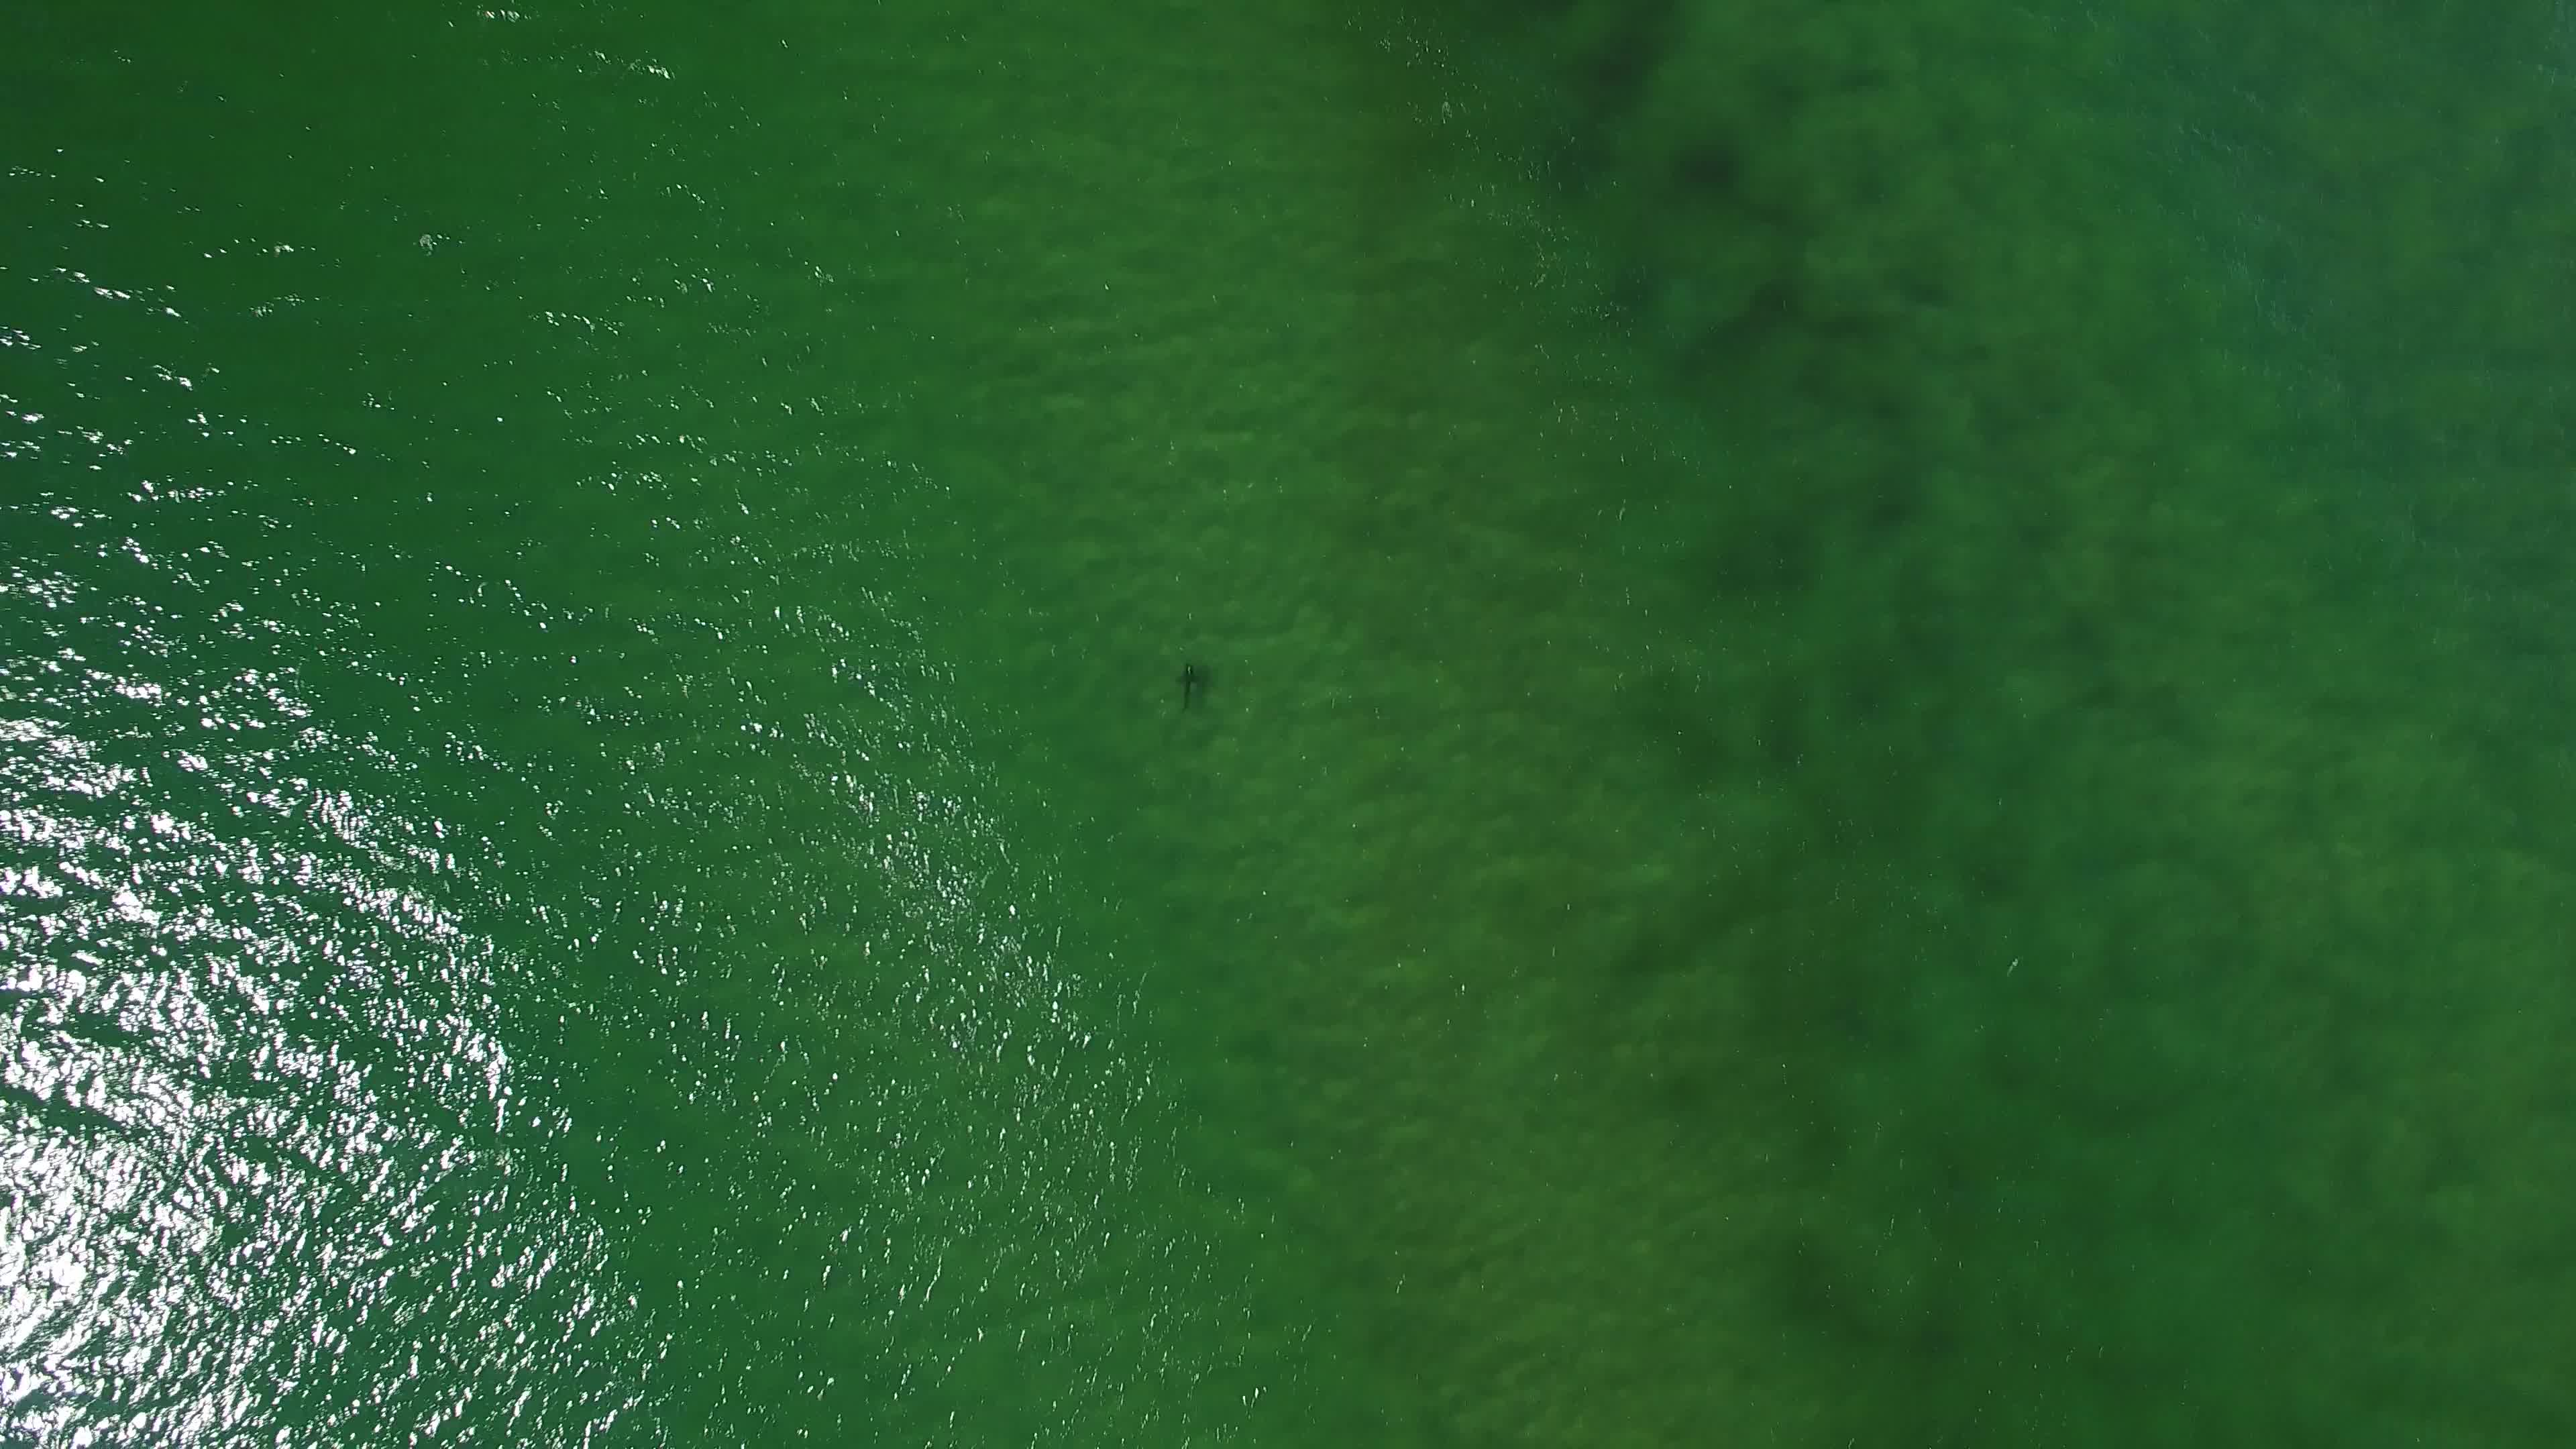shark: (1173, 658, 1207, 715)
